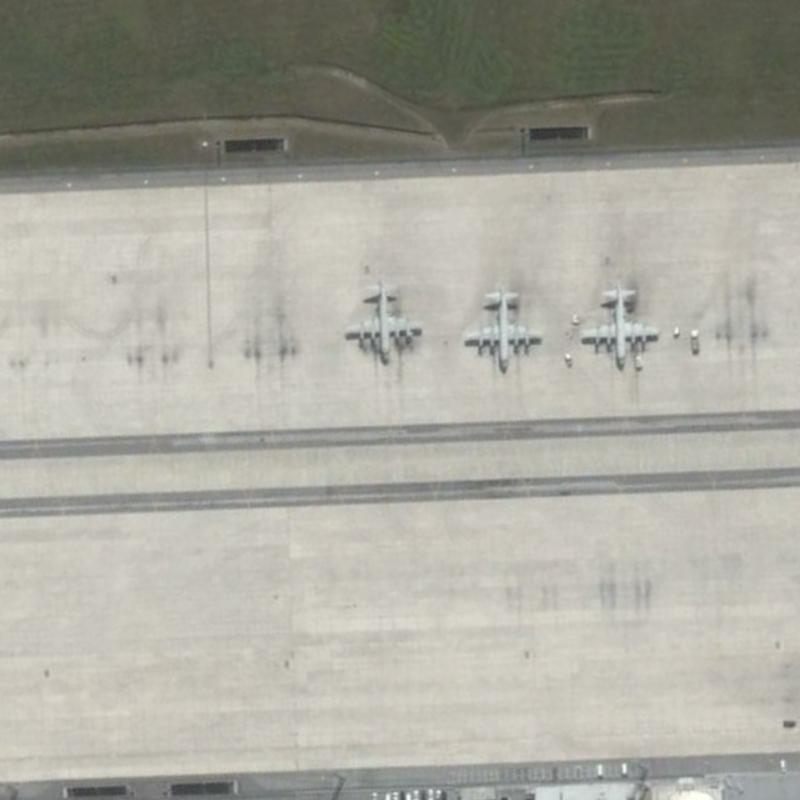A9: (455, 281, 548, 377), (336, 272, 425, 366), (575, 277, 661, 371)
